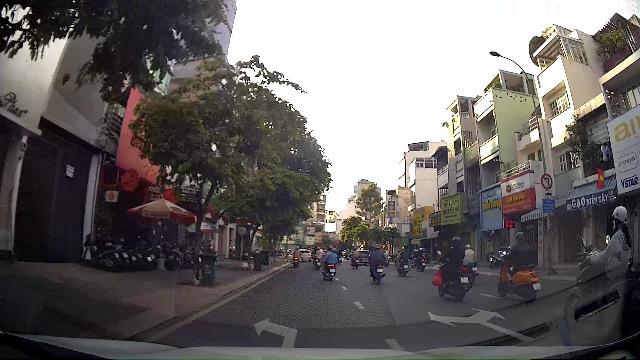123a-cam-re-trai: (541, 174, 553, 190)
